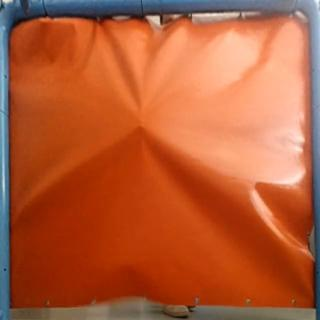Hit-hRxx: (136, 121, 147, 131)
